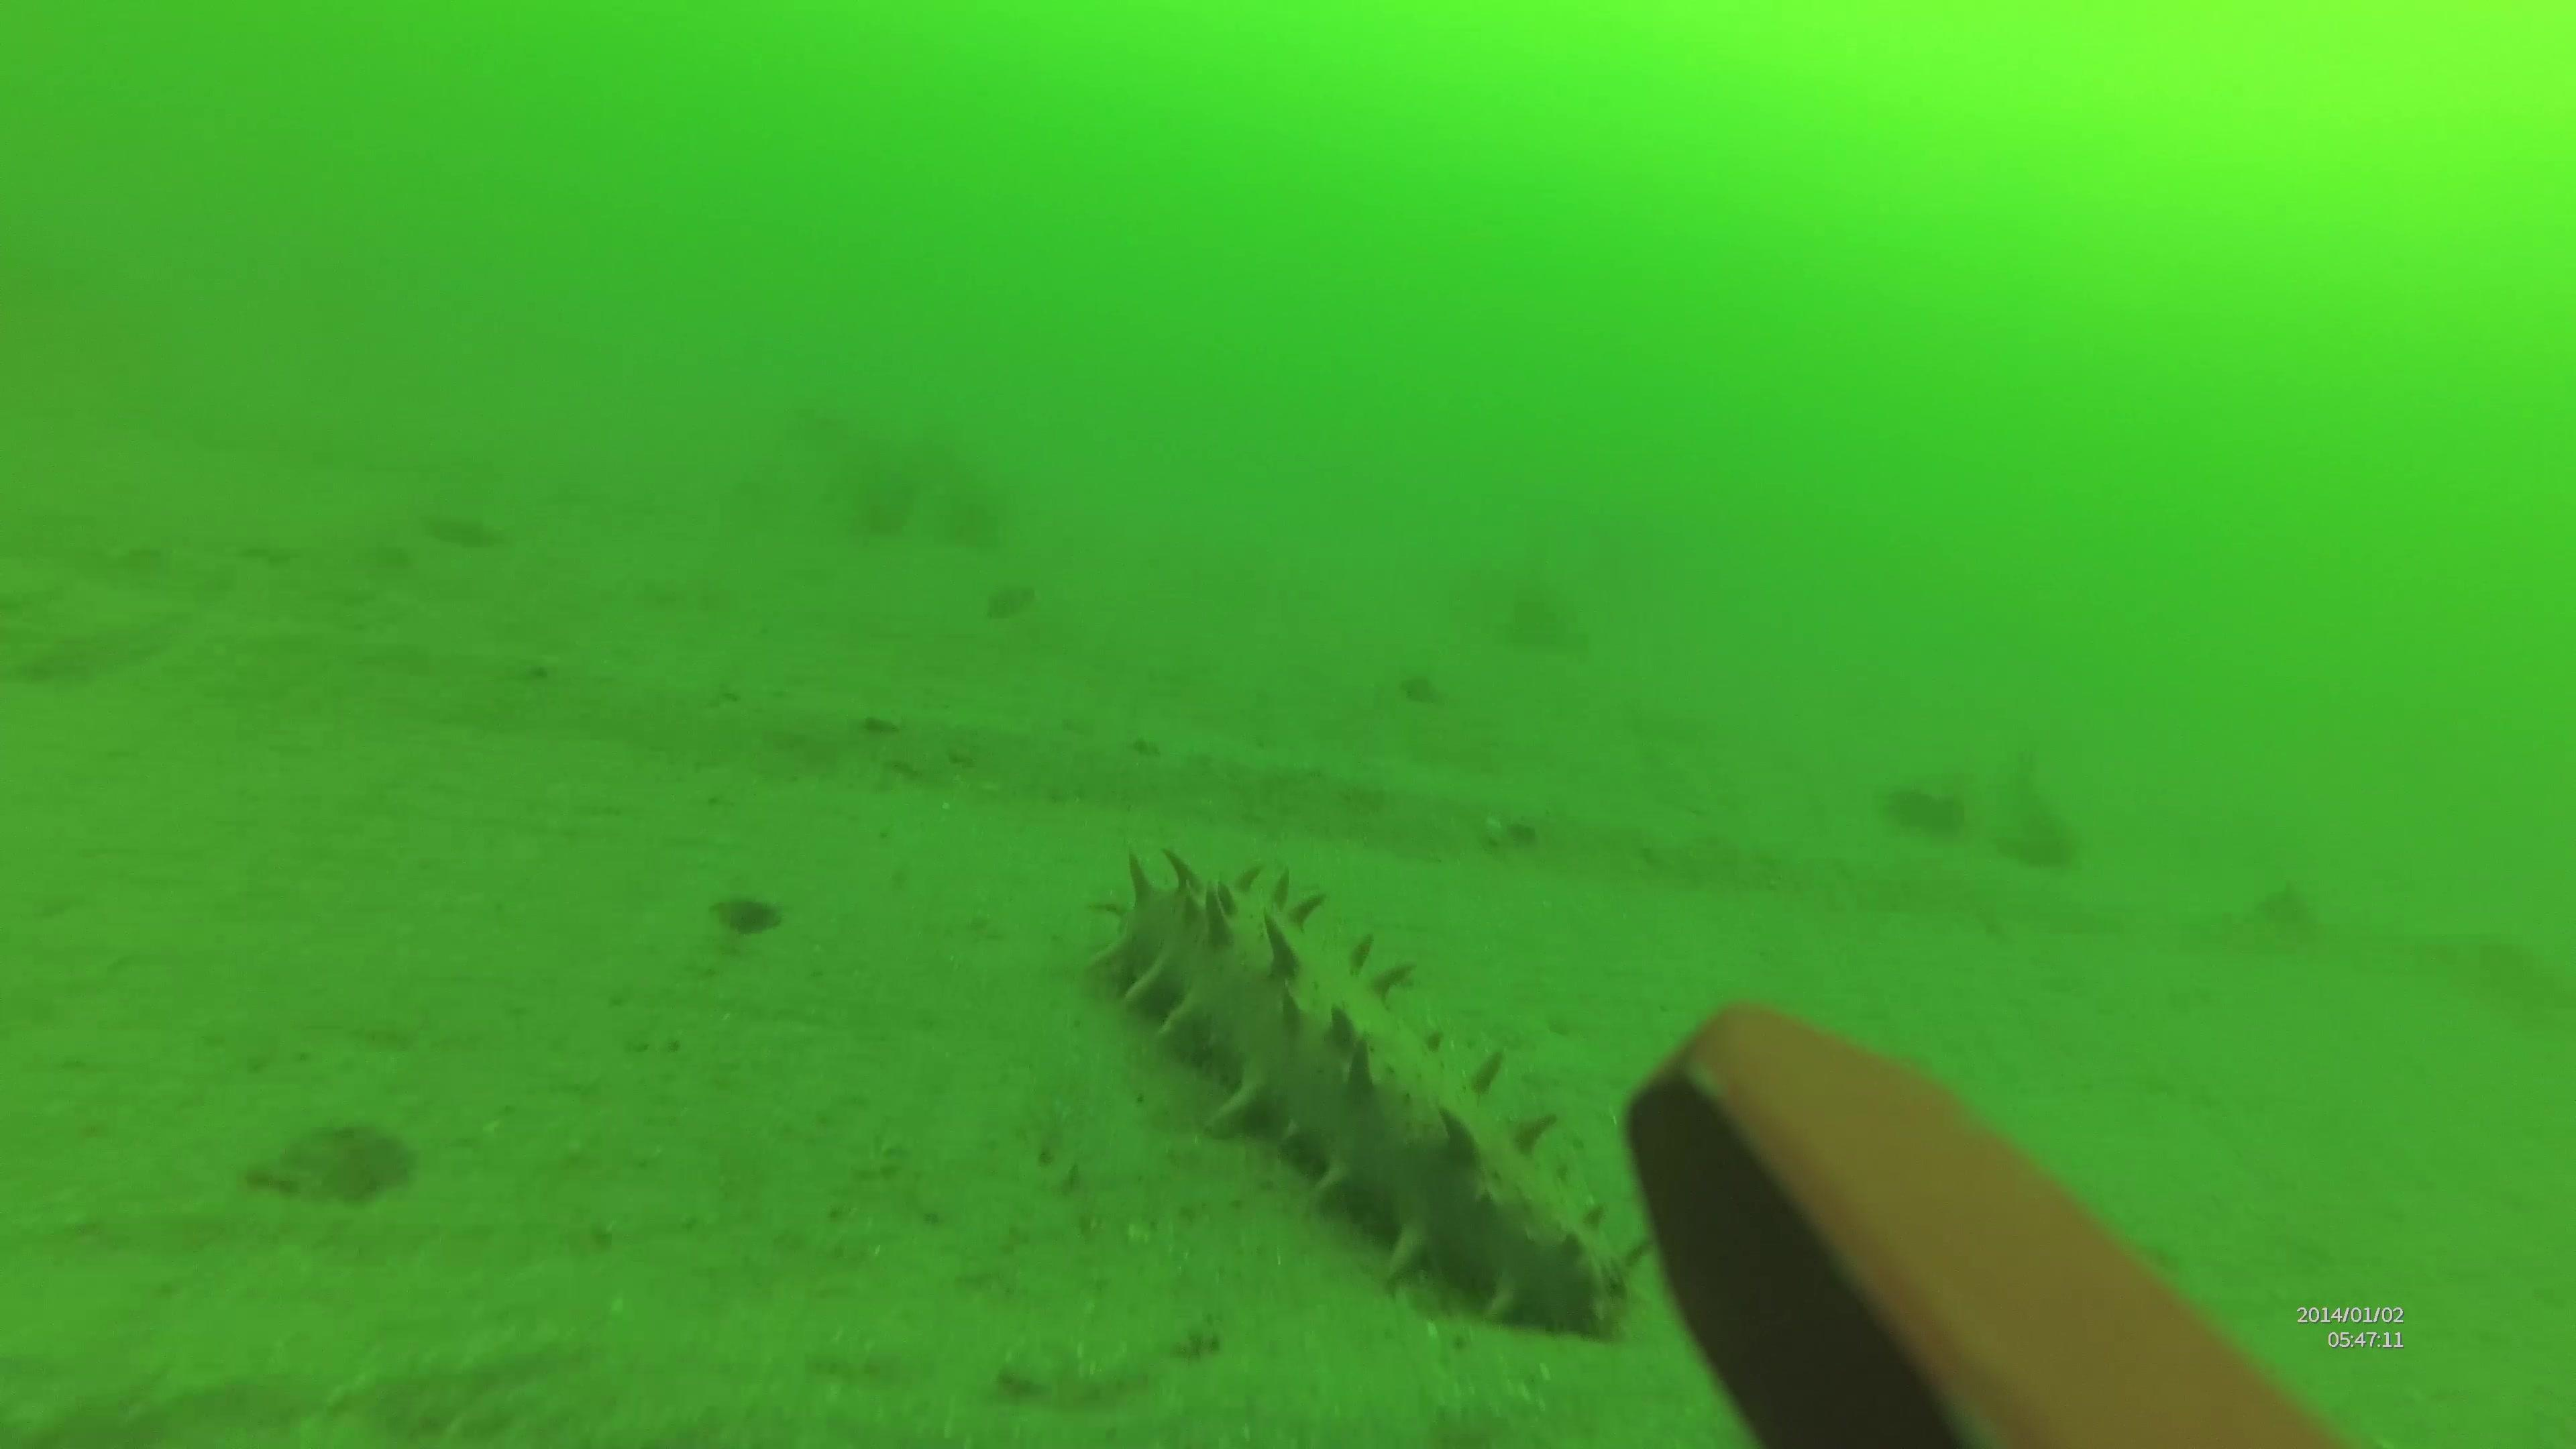holothurian: (1085, 847, 1658, 1343)
